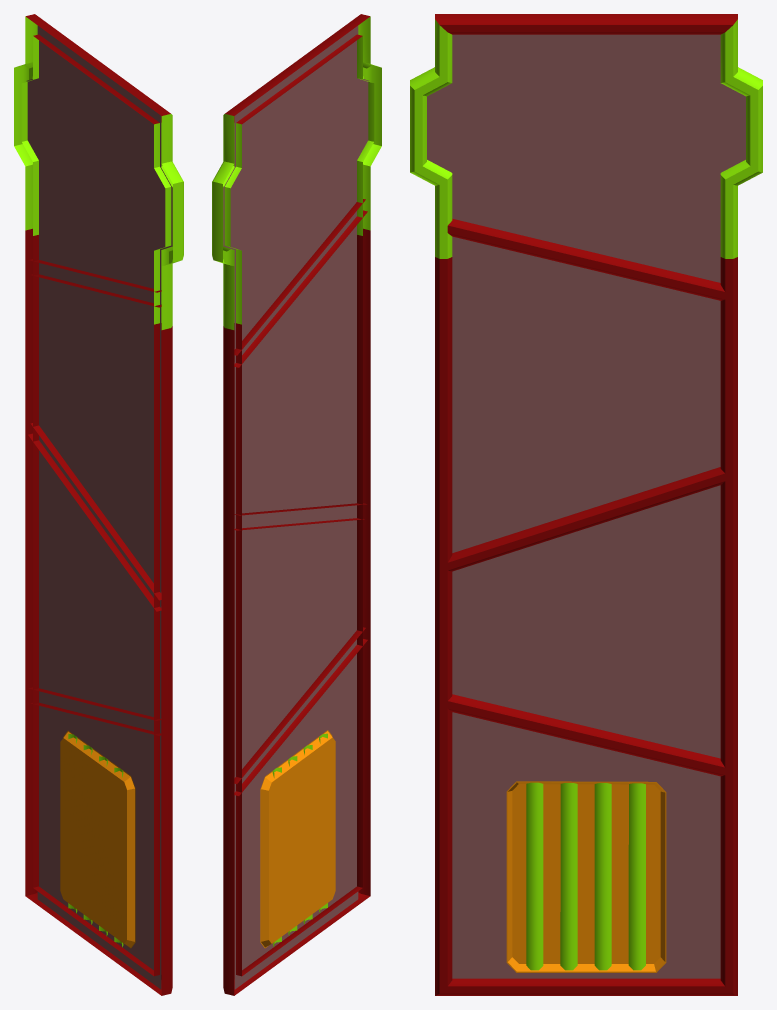
Rendered from Building_Wall_02l_snaps016.fbx.
3 views of the same model, side by side, from view 1: azimuth 30°, elevation 25°; view 2: azimuth 150°, elevation 25°; view 3: azimuth 270°, elevation 25° (orthographic). The views are drawn at different scales.
Parts seen in each view (by area): view 1: Building_Wall_02l_snaps016_LOD0; view 2: Building_Wall_02l_snaps016_LOD0; view 3: Building_Wall_02l_snaps016_LOD0.
Boxes of the visible parts, left/top/right/bottom form: Building_Wall_02l_snaps016_LOD0: left=14, top=14, right=183, bottom=995; Building_Wall_02l_snaps016_LOD0: left=212, top=14, right=381, bottom=995; Building_Wall_02l_snaps016_LOD0: left=410, top=14, right=762, bottom=995.
Size of what is drawn, in the model's own units: 0.1659 by 10.68 by 3.5.
